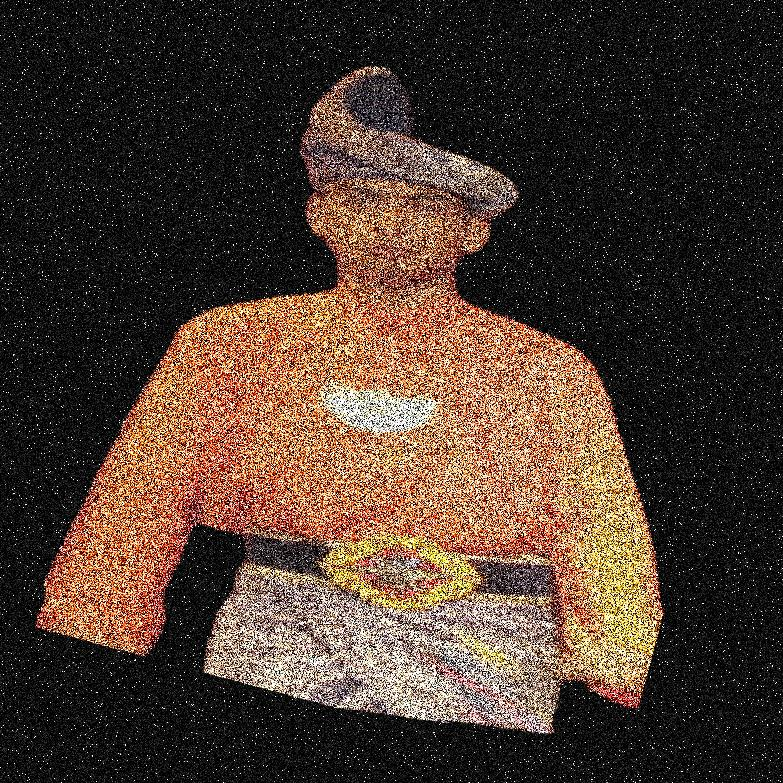Pessoa: (269, 0, 549, 782)
